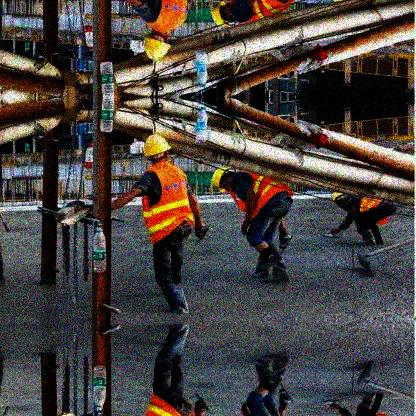helmet: (144, 134, 173, 165), (145, 29, 172, 62), (211, 168, 234, 194), (212, 1, 235, 27), (333, 191, 344, 205)
